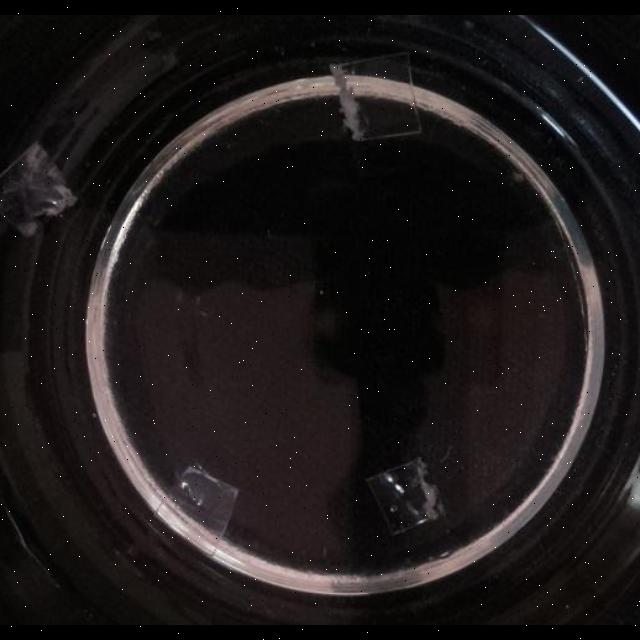Film: (330, 52, 424, 140), (0, 138, 76, 238), (367, 456, 448, 538), (168, 462, 242, 540)
